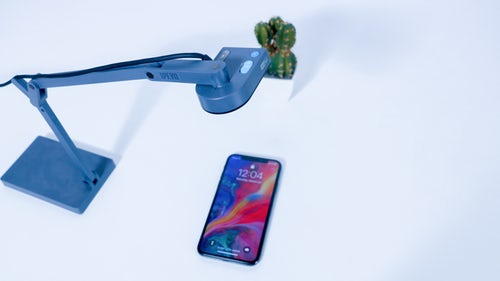phone: (199, 149, 282, 270)
